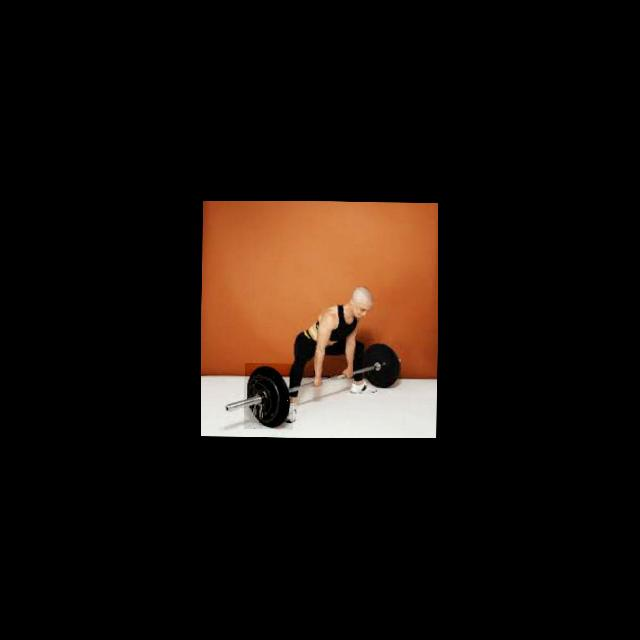barbell: (243, 363, 293, 429)
